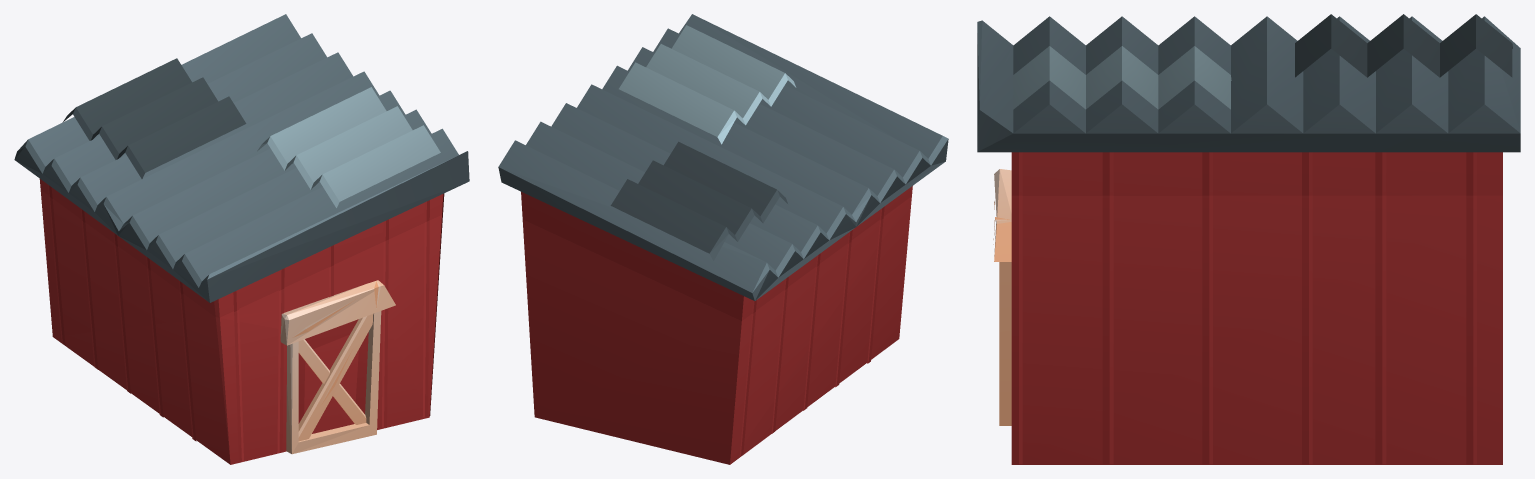
The model's file is barnlvl1.glb.
3 views of the same model, side by side, from view 1: azimuth 30°, elevation 25°; view 2: azimuth 150°, elevation 25°; view 3: azimuth 270°, elevation 25° (orthographic). The views are drawn at different scales.
Parts seen in each view (by area): view 1: barnlvl1; view 2: barnlvl1; view 3: barnlvl1.
Part boxes in pixels (box(x1,y1,x2,y2)): barnlvl1: box(14, 14, 469, 464); barnlvl1: box(498, 14, 948, 464); barnlvl1: box(977, 14, 1520, 464).
Bounding box in the file's own units: 3.61 × 3.64 × 4.6.
1 material, 1 textured.
